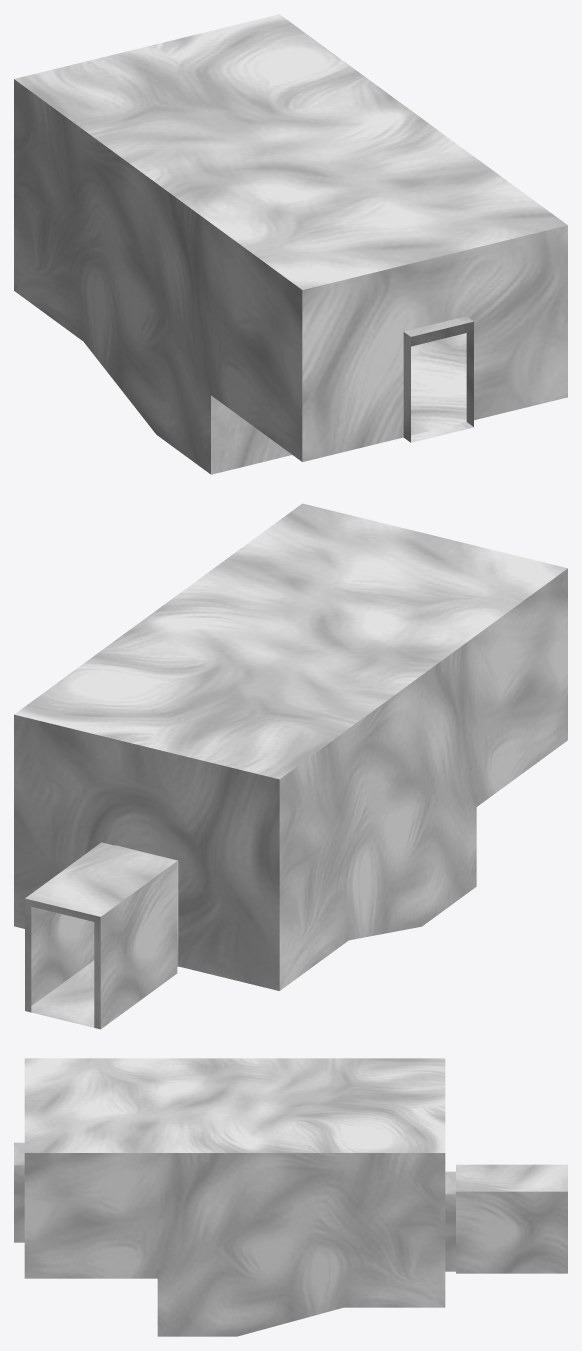
The model's file is Stage2.obj.
3 renders of one model, top to bottom at view 1: azimuth 30°, elevation 25°; view 2: azimuth 150°, elevation 25°; view 3: azimuth 270°, elevation 25°, orthographic. The views are drawn at different scales.
Visible parts, largest first — view 1: Stage2; view 2: Stage2; view 3: Stage2.
Part boxes in pixels (x1,y1,x2,y2): Stage2: [14, 14, 567, 474]; Stage2: [14, 503, 567, 1029]; Stage2: [14, 1058, 567, 1336].
Size of the model in its own units: 10.5 by 9.5 by 26.
1 material, 1 textured.
